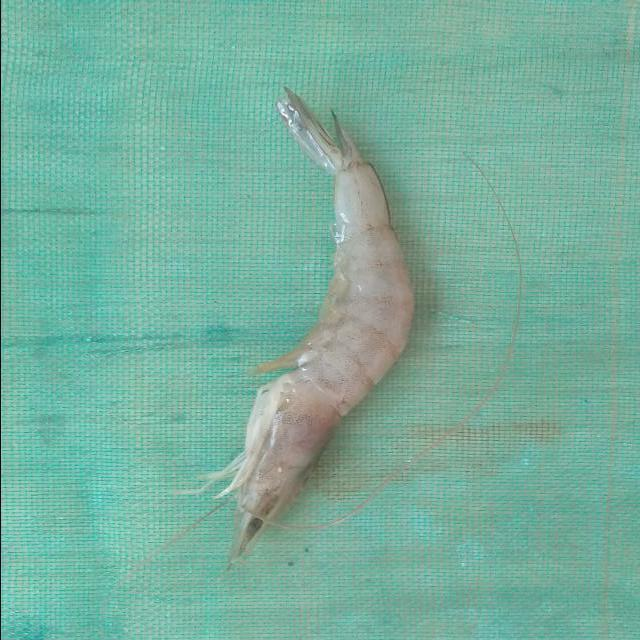shrimp: (206, 87, 413, 564)
